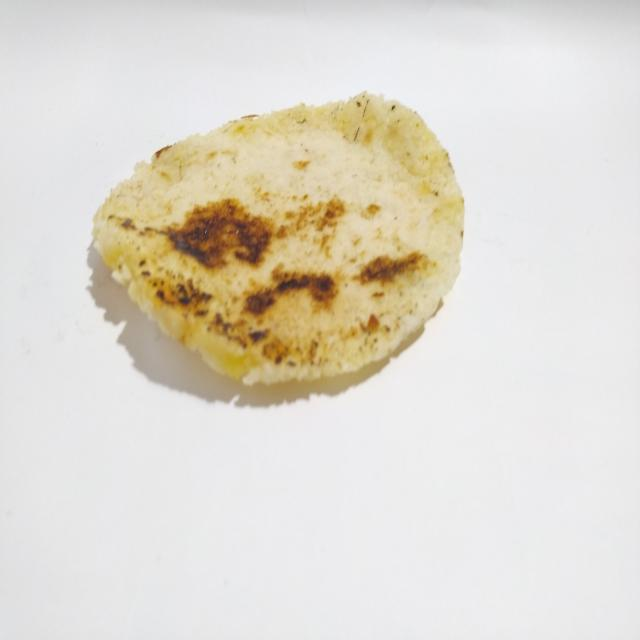Mbeju: (79, 87, 474, 399)
